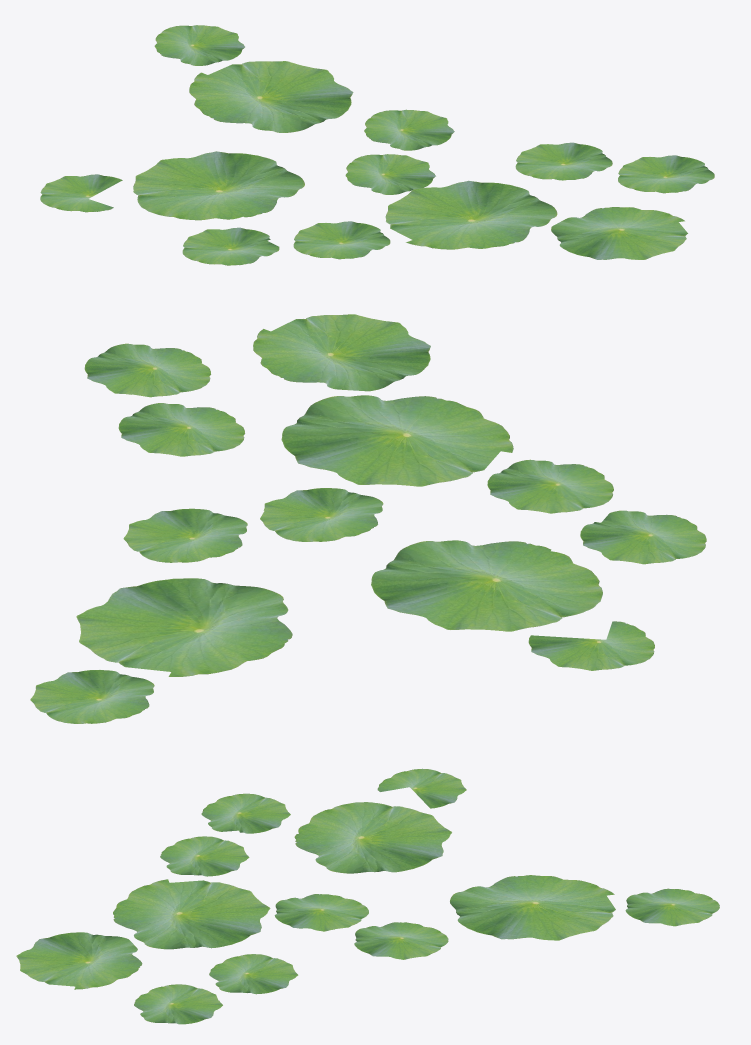
The model's file is Lily.fbx.
3 views of the same model, one above another, from view 1: azimuth 30°, elevation 25°; view 2: azimuth 150°, elevation 25°; view 3: azimuth 270°, elevation 25° (orthographic). The views are drawn at different scales.
Parts seen in each view (by area): view 1: Group1; view 2: Group1; view 3: Group1.
Boxes of the visible parts, x1,y1,x2,y2 form: Group1: [40, 25, 714, 265]; Group1: [30, 314, 706, 723]; Group1: [16, 768, 719, 1024].
Bounding box in the file's own units: 43.68 × 0.2756 × 49.86.
